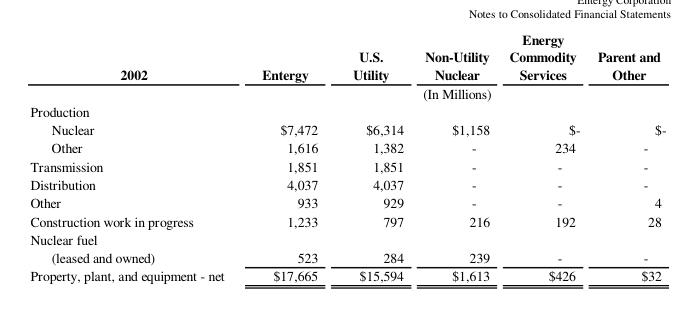table: (29, 29, 665, 283)
table column: (29, 29, 242, 283), (242, 29, 334, 283), (498, 29, 588, 283), (413, 29, 498, 283), (334, 29, 413, 283), (588, 29, 665, 283)
table column header: (29, 29, 665, 101)
table projected row header: (29, 101, 665, 119), (29, 229, 665, 247)
table row: (29, 29, 665, 83), (29, 137, 665, 156), (29, 210, 665, 229), (29, 83, 665, 101), (29, 101, 665, 119), (29, 119, 665, 137), (29, 156, 665, 174), (29, 174, 665, 192), (29, 192, 665, 210), (29, 229, 665, 247), (29, 247, 665, 265), (29, 265, 665, 283)
table spanning cell: (29, 29, 242, 101), (242, 83, 665, 101)
